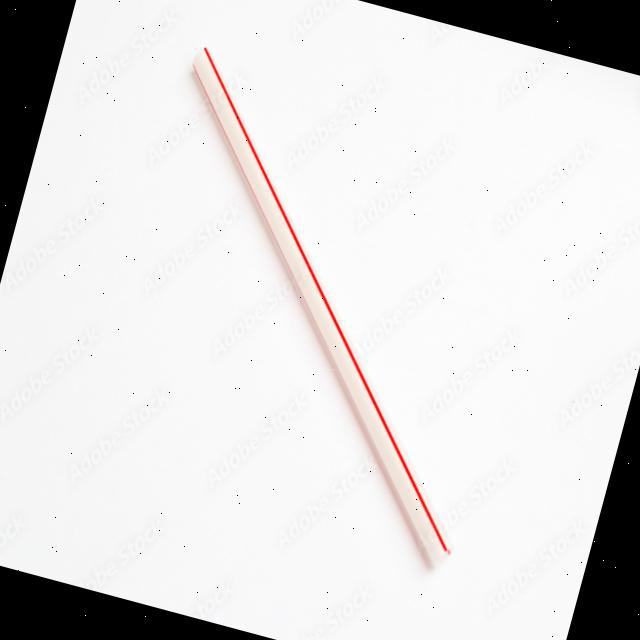plastic: (68, 0, 571, 590)
